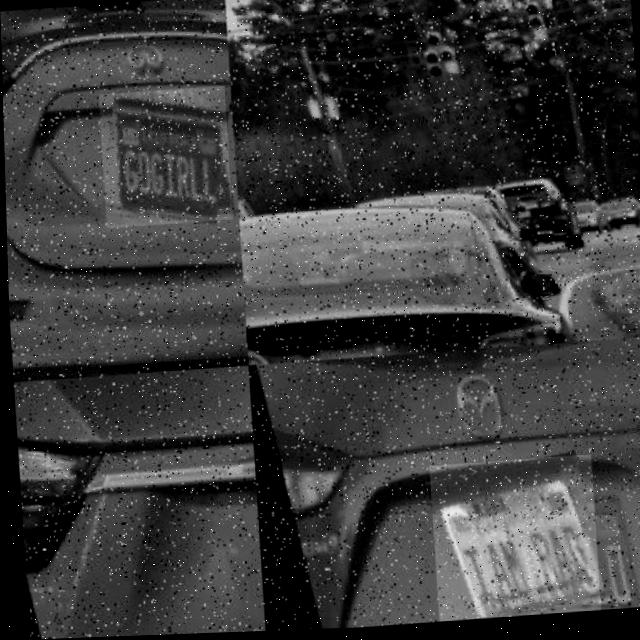LicensePlate: (426, 458, 597, 625), (97, 86, 231, 229)
